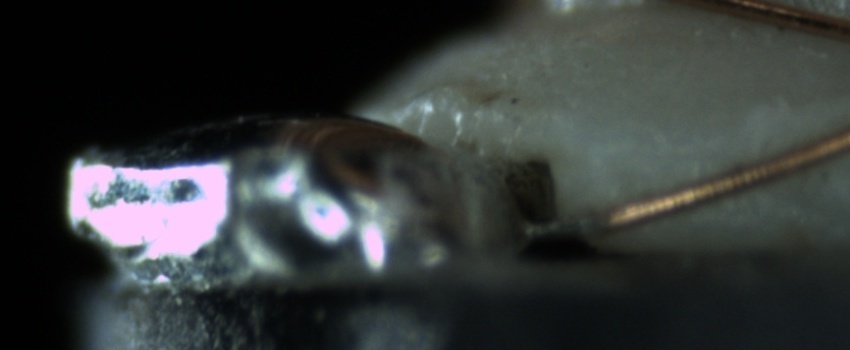DL: (601, 124, 742, 180)
TS: (529, 213, 601, 238)
